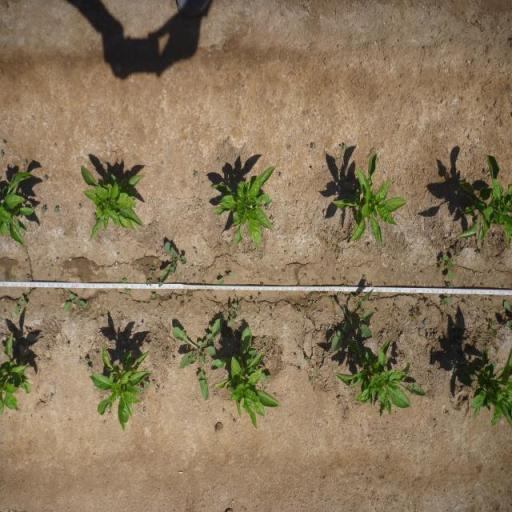plant: (329, 150, 408, 249), (210, 161, 278, 254), (451, 150, 512, 246), (339, 338, 411, 416), (89, 344, 150, 434), (217, 347, 280, 434), (80, 164, 145, 246), (466, 342, 512, 432), (0, 168, 35, 250), (0, 332, 31, 418)
weed: (170, 316, 222, 402), (328, 286, 377, 355), (160, 242, 188, 284), (62, 291, 88, 315), (439, 254, 458, 280), (227, 300, 243, 328), (13, 294, 28, 316), (218, 271, 232, 285), (488, 319, 498, 337), (411, 304, 422, 320), (122, 278, 131, 296), (442, 292, 452, 307), (140, 380, 150, 394), (52, 205, 63, 217), (40, 204, 48, 216), (472, 250, 486, 256), (86, 363, 94, 373), (150, 292, 160, 300), (339, 142, 349, 150), (150, 266, 156, 278), (446, 280, 454, 288), (22, 159, 28, 168), (146, 278, 152, 286), (155, 386, 160, 395), (179, 301, 185, 308), (0, 148, 4, 158), (44, 174, 49, 182), (193, 169, 198, 177), (311, 142, 316, 150), (362, 273, 367, 281), (298, 310, 304, 316), (146, 264, 151, 270), (258, 292, 262, 299), (278, 171, 282, 178), (266, 205, 270, 211), (269, 215, 273, 221), (3, 138, 6, 145)
